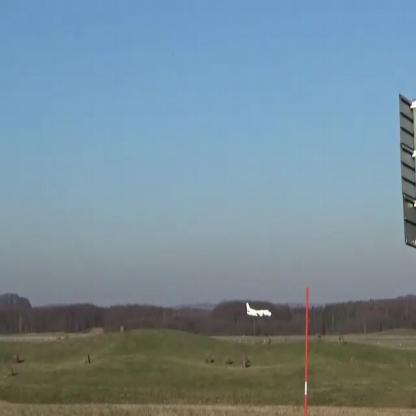CIV_Plane: (242, 298, 273, 324)
